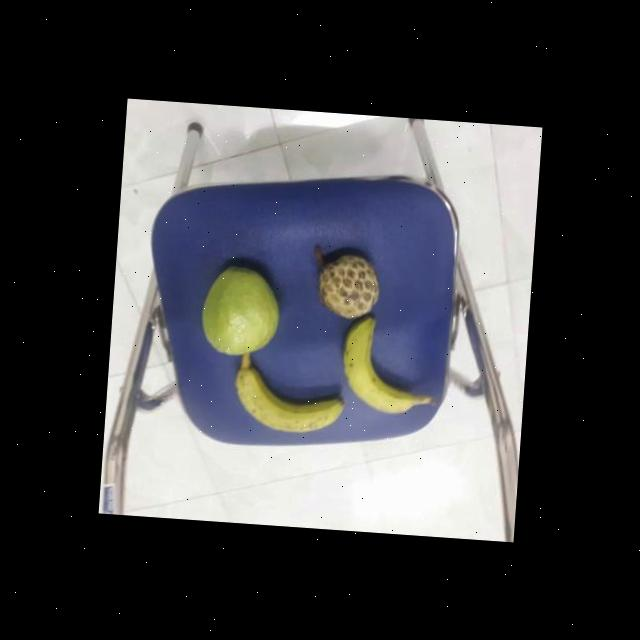Sakya fruit: (308, 249, 380, 319)
banana: (225, 352, 344, 434), (332, 315, 424, 415)
guava: (196, 264, 282, 358)
